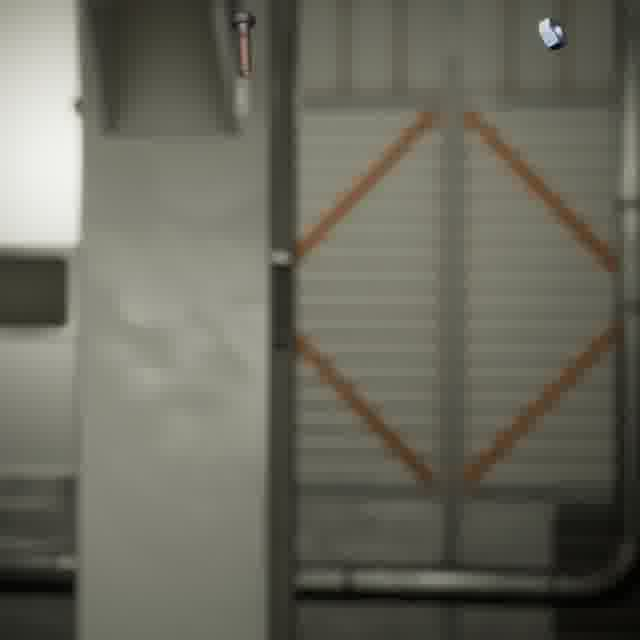bolt: (225, 8, 260, 83)
nut: (534, 13, 569, 55)
